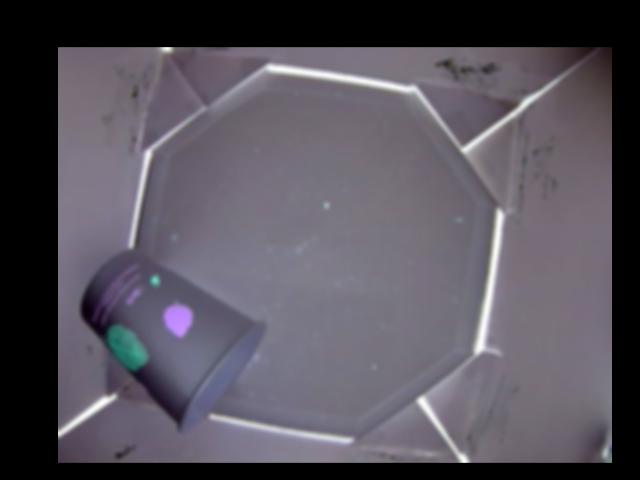Cup: (76, 246, 267, 432)
